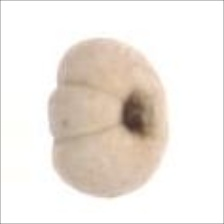L5: (45, 79, 124, 145), (116, 87, 164, 140)
L6: (44, 34, 174, 201)
